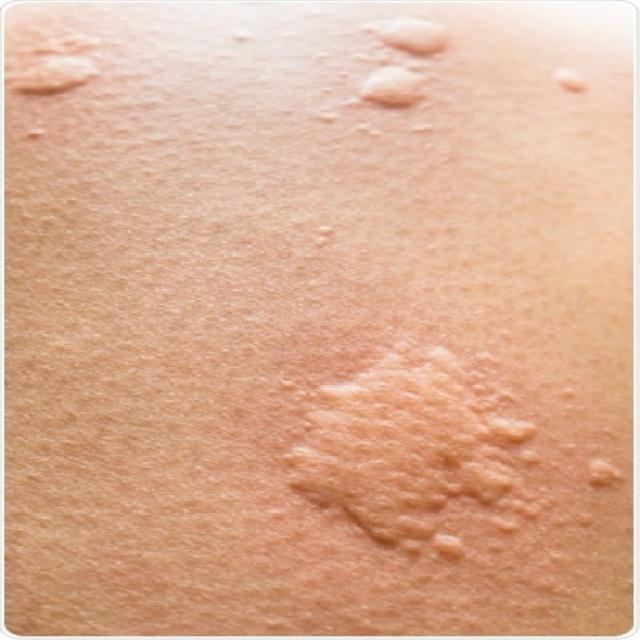hives: (266, 315, 640, 600), (0, 12, 627, 181)
